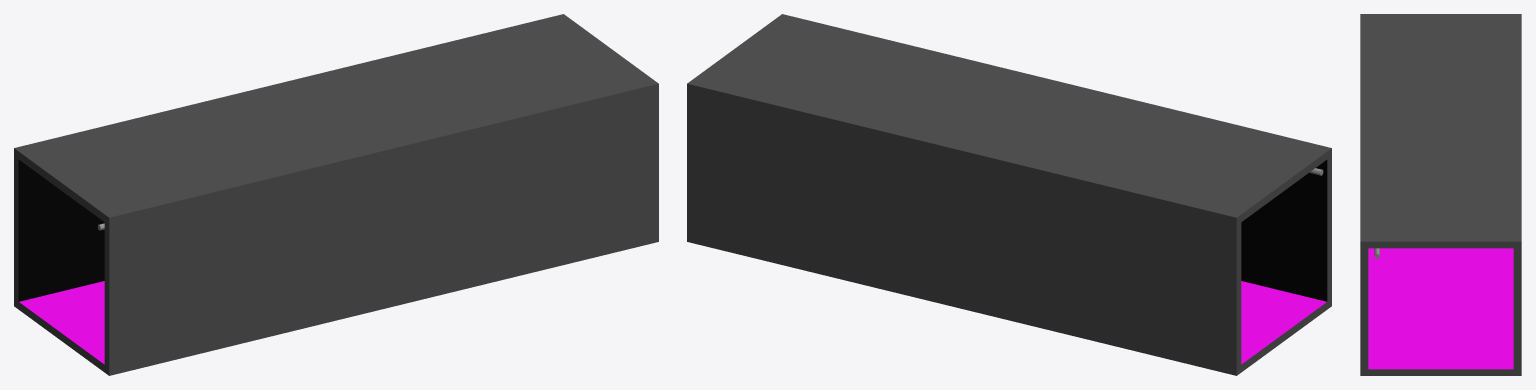
The model's file is Hall.fbx.
The picture shows the model from 3 angles, left to right: view 1: azimuth 30°, elevation 25°; view 2: azimuth 150°, elevation 25°; view 3: azimuth 270°, elevation 25°; orthographic projection. The views are drawn at different scales.
Visible parts, largest first — view 1: Cube.002; view 2: Cube.002; view 3: Cube.002.
Boxes of the visible parts, x1,y1,x2,y2 form: Cube.002: (14, 14, 658, 375); Cube.002: (687, 14, 1331, 375); Cube.002: (1360, 14, 1521, 375).
Size of the model in its own units: 2000 by 550 by 600.
